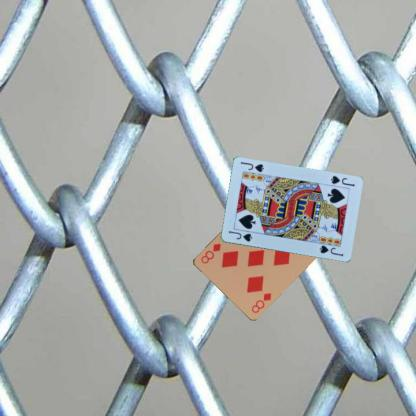8d: (248, 290, 273, 314)
Js: (226, 228, 253, 243), (328, 173, 355, 188)
